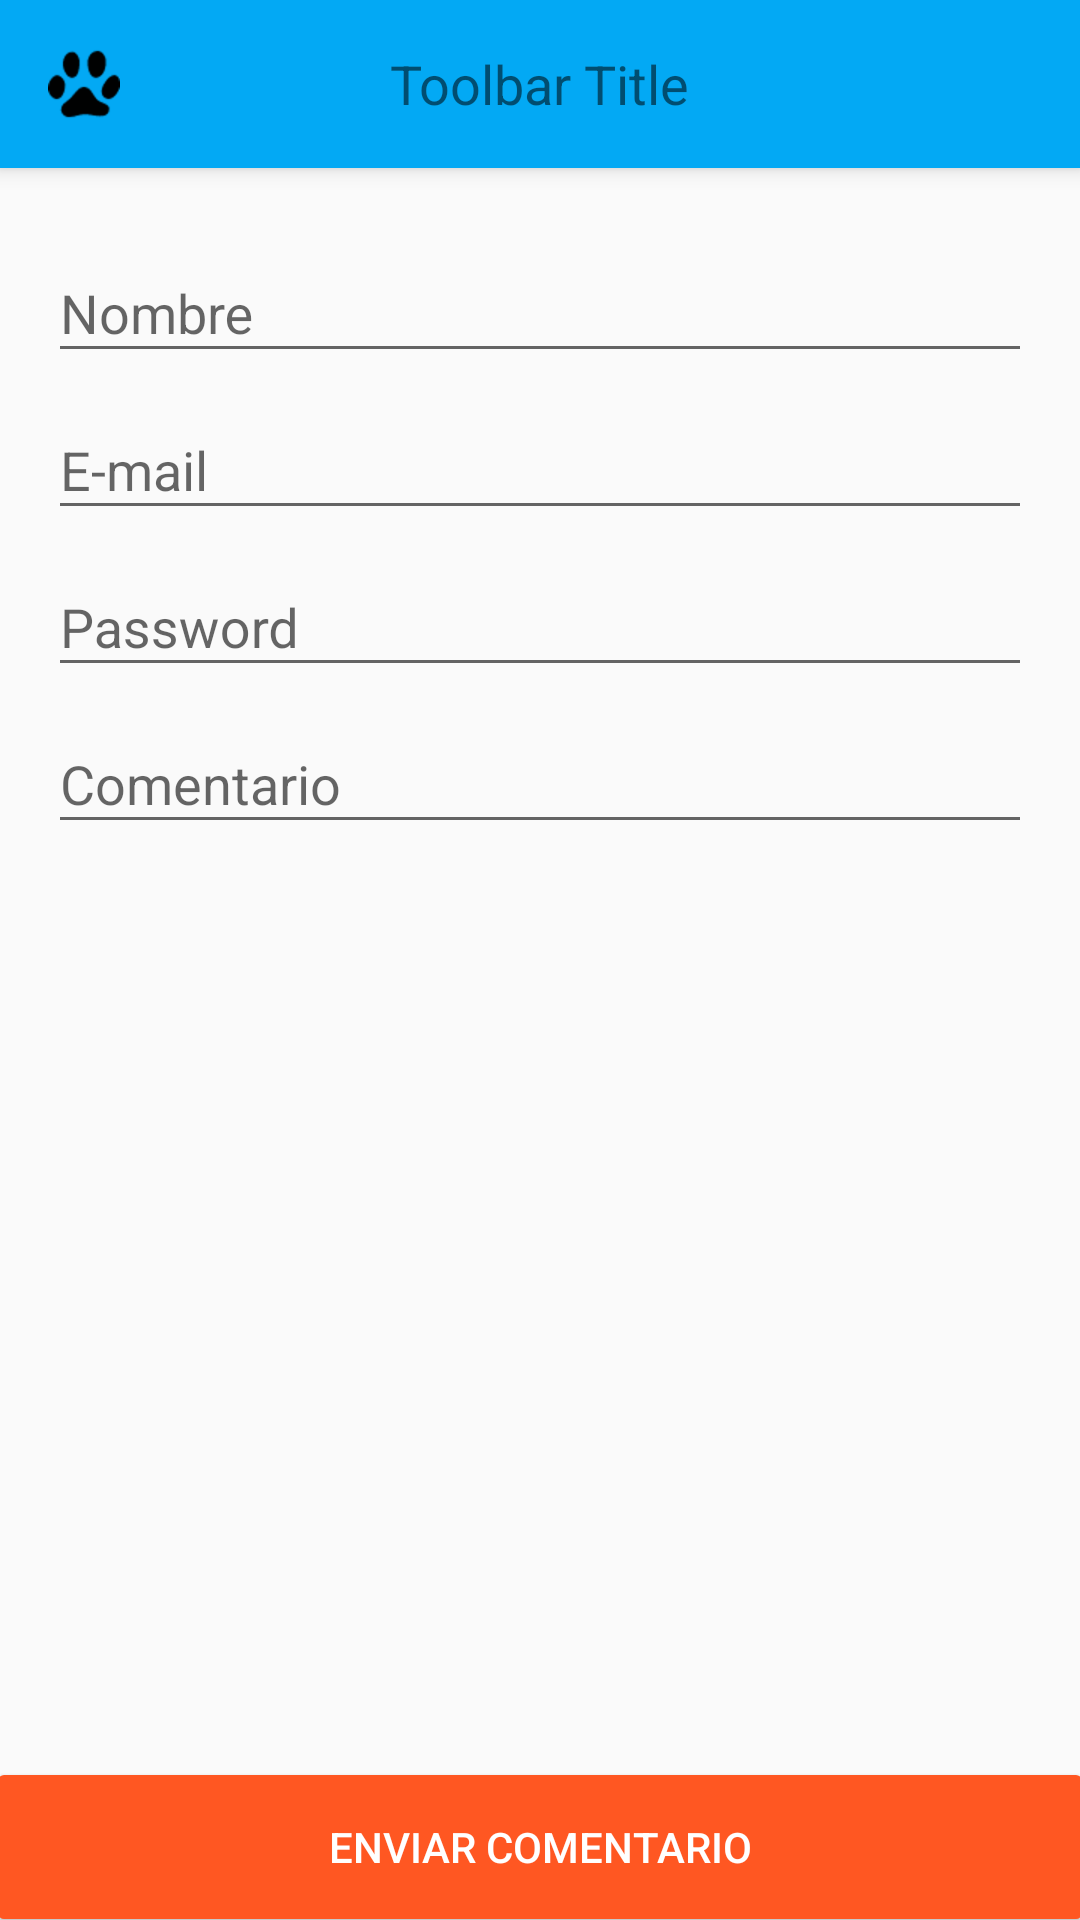

Icon click points for this 1080px×1920px phone screenshot, format (x,y):
cat footprint: (84,84)
